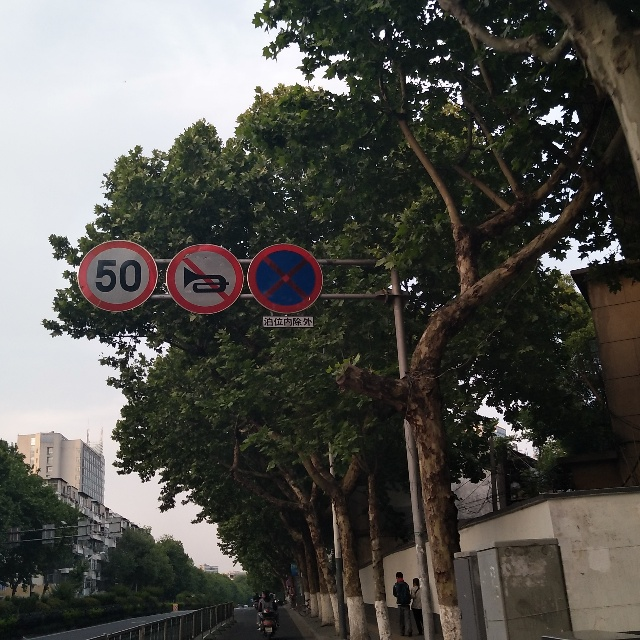nohonk: (173, 246, 236, 306)
stop: (252, 243, 314, 311)
